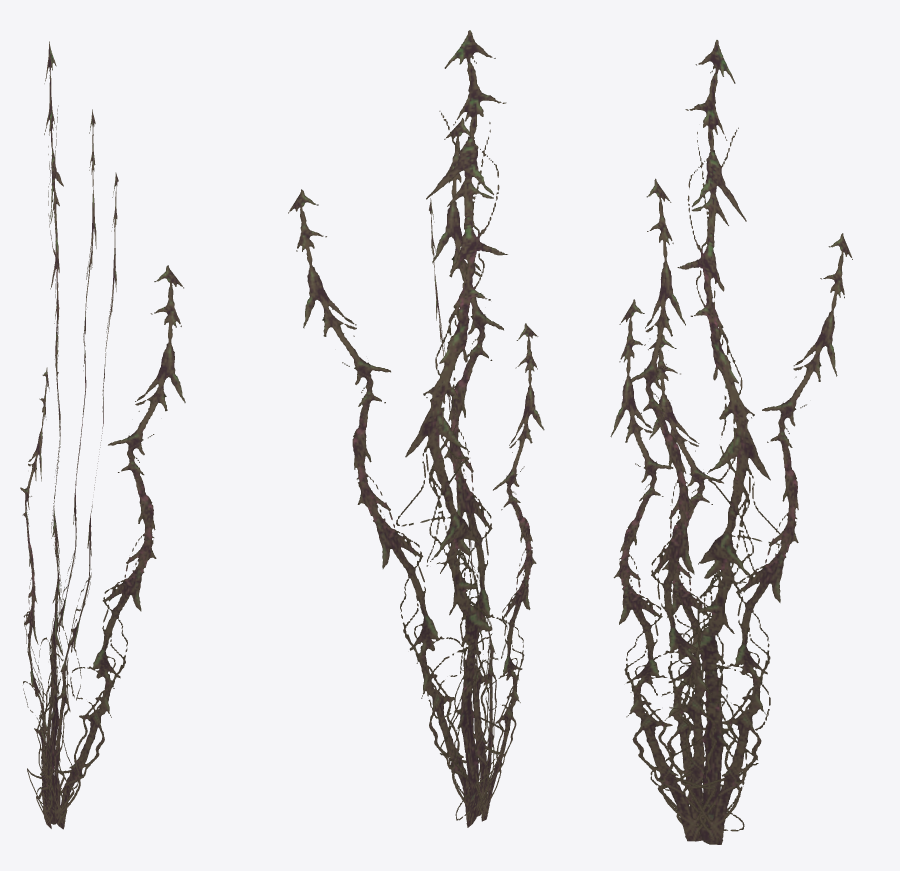
File: SM_weed_bunch_02.fbx
3 renders of one model, left to right at view 1: azimuth 30°, elevation 25°; view 2: azimuth 150°, elevation 25°; view 3: azimuth 270°, elevation 25°, orthographic. The views are drawn at different scales.
Visible parts, largest first — view 1: SM_weed_bunch_02; view 2: SM_weed_bunch_02; view 3: SM_weed_bunch_02.
Boxes of the visible parts, bbox=[...] form: SM_weed_bunch_02: bbox=[20, 41, 185, 829]; SM_weed_bunch_02: bbox=[288, 30, 544, 827]; SM_weed_bunch_02: bbox=[610, 40, 852, 844].
Size of the model in its own units: 27.15 by 37.09 by 115.
